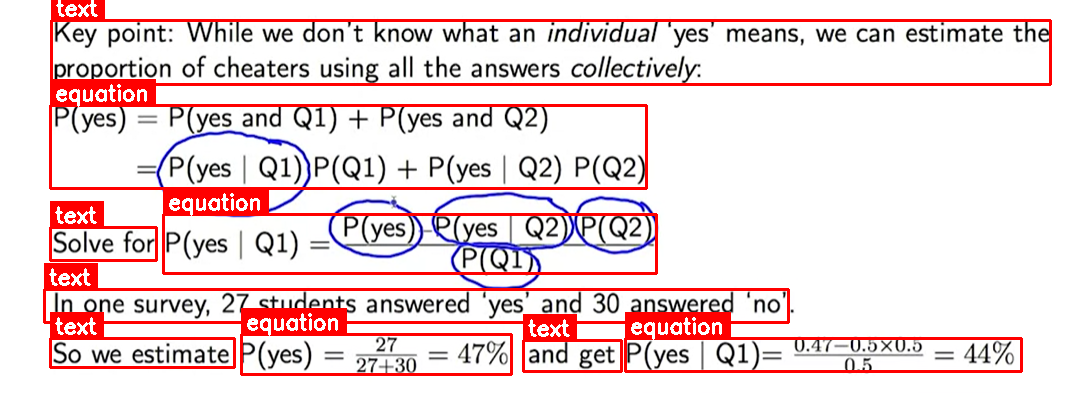equation: (50, 105, 646, 188), (163, 214, 656, 273), (625, 338, 1021, 371), (241, 334, 511, 374)
text: (51, 20, 1050, 84), (44, 289, 788, 322), (50, 338, 234, 367), (50, 227, 156, 260), (523, 340, 621, 371)
